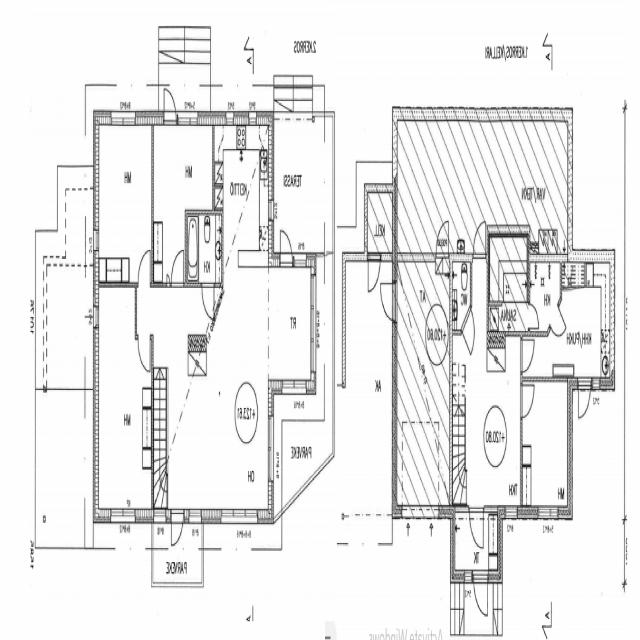door: (461, 306, 479, 354), (378, 283, 398, 321), (473, 569, 488, 619), (550, 305, 566, 348), (171, 505, 184, 554), (469, 506, 484, 548), (578, 379, 591, 425), (280, 220, 292, 269), (164, 79, 176, 127), (368, 252, 380, 294), (436, 220, 448, 260), (473, 220, 485, 260), (171, 248, 183, 287), (202, 281, 214, 320), (138, 250, 150, 287), (138, 335, 150, 372), (520, 341, 534, 372), (521, 388, 534, 418), (527, 304, 539, 328), (166, 271, 170, 287)
